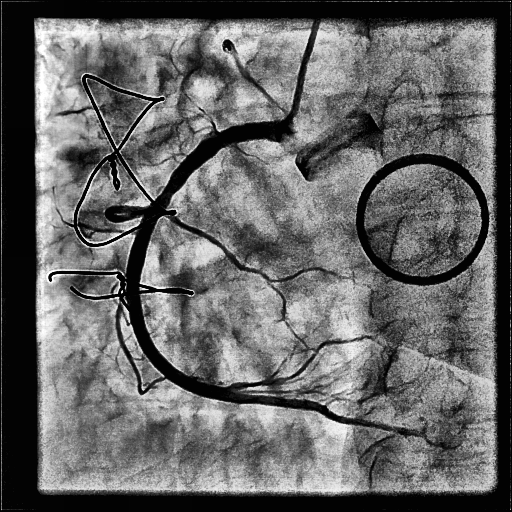pda: (219, 388, 420, 436)
rca: (126, 122, 278, 400)
